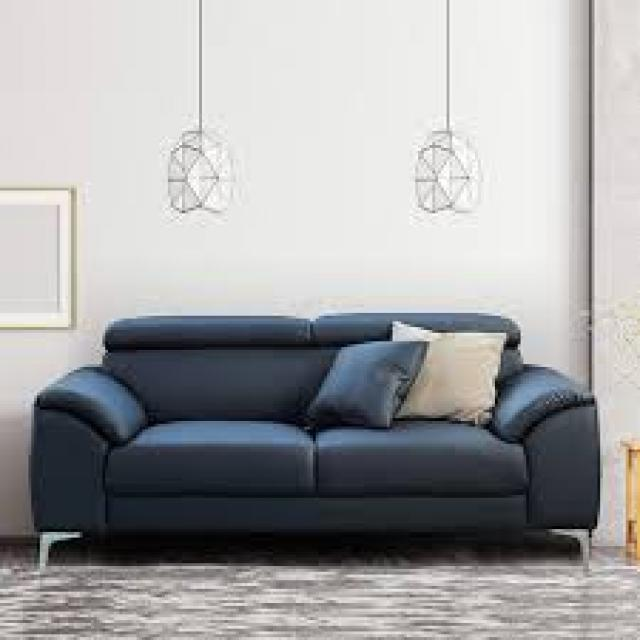Sofa: (14, 292, 615, 598)
